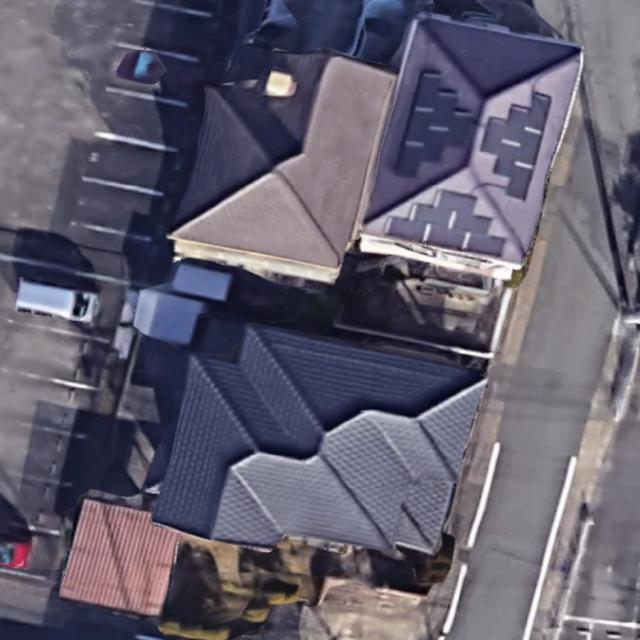Batiment: (153, 325, 485, 554), (359, 14, 582, 279), (170, 24, 396, 282), (60, 499, 179, 616)
